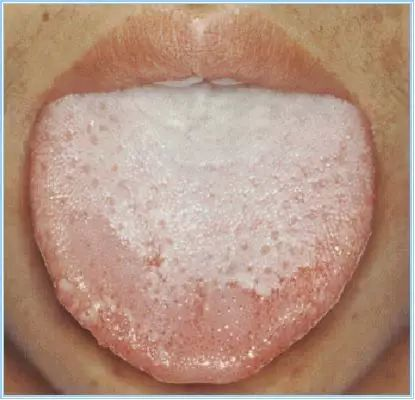baitaishe: (28, 87, 375, 385)
hongdianshe: (243, 262, 254, 274)
hongshe: (28, 87, 375, 385)
